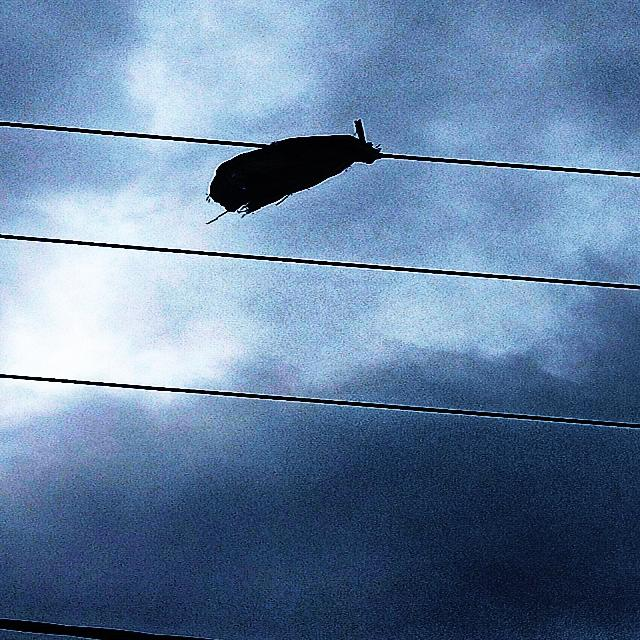obstruction: (209, 130, 385, 214)
wires: (5, 368, 639, 432), (7, 230, 630, 292), (3, 112, 262, 150), (385, 151, 636, 185), (8, 604, 227, 639)
